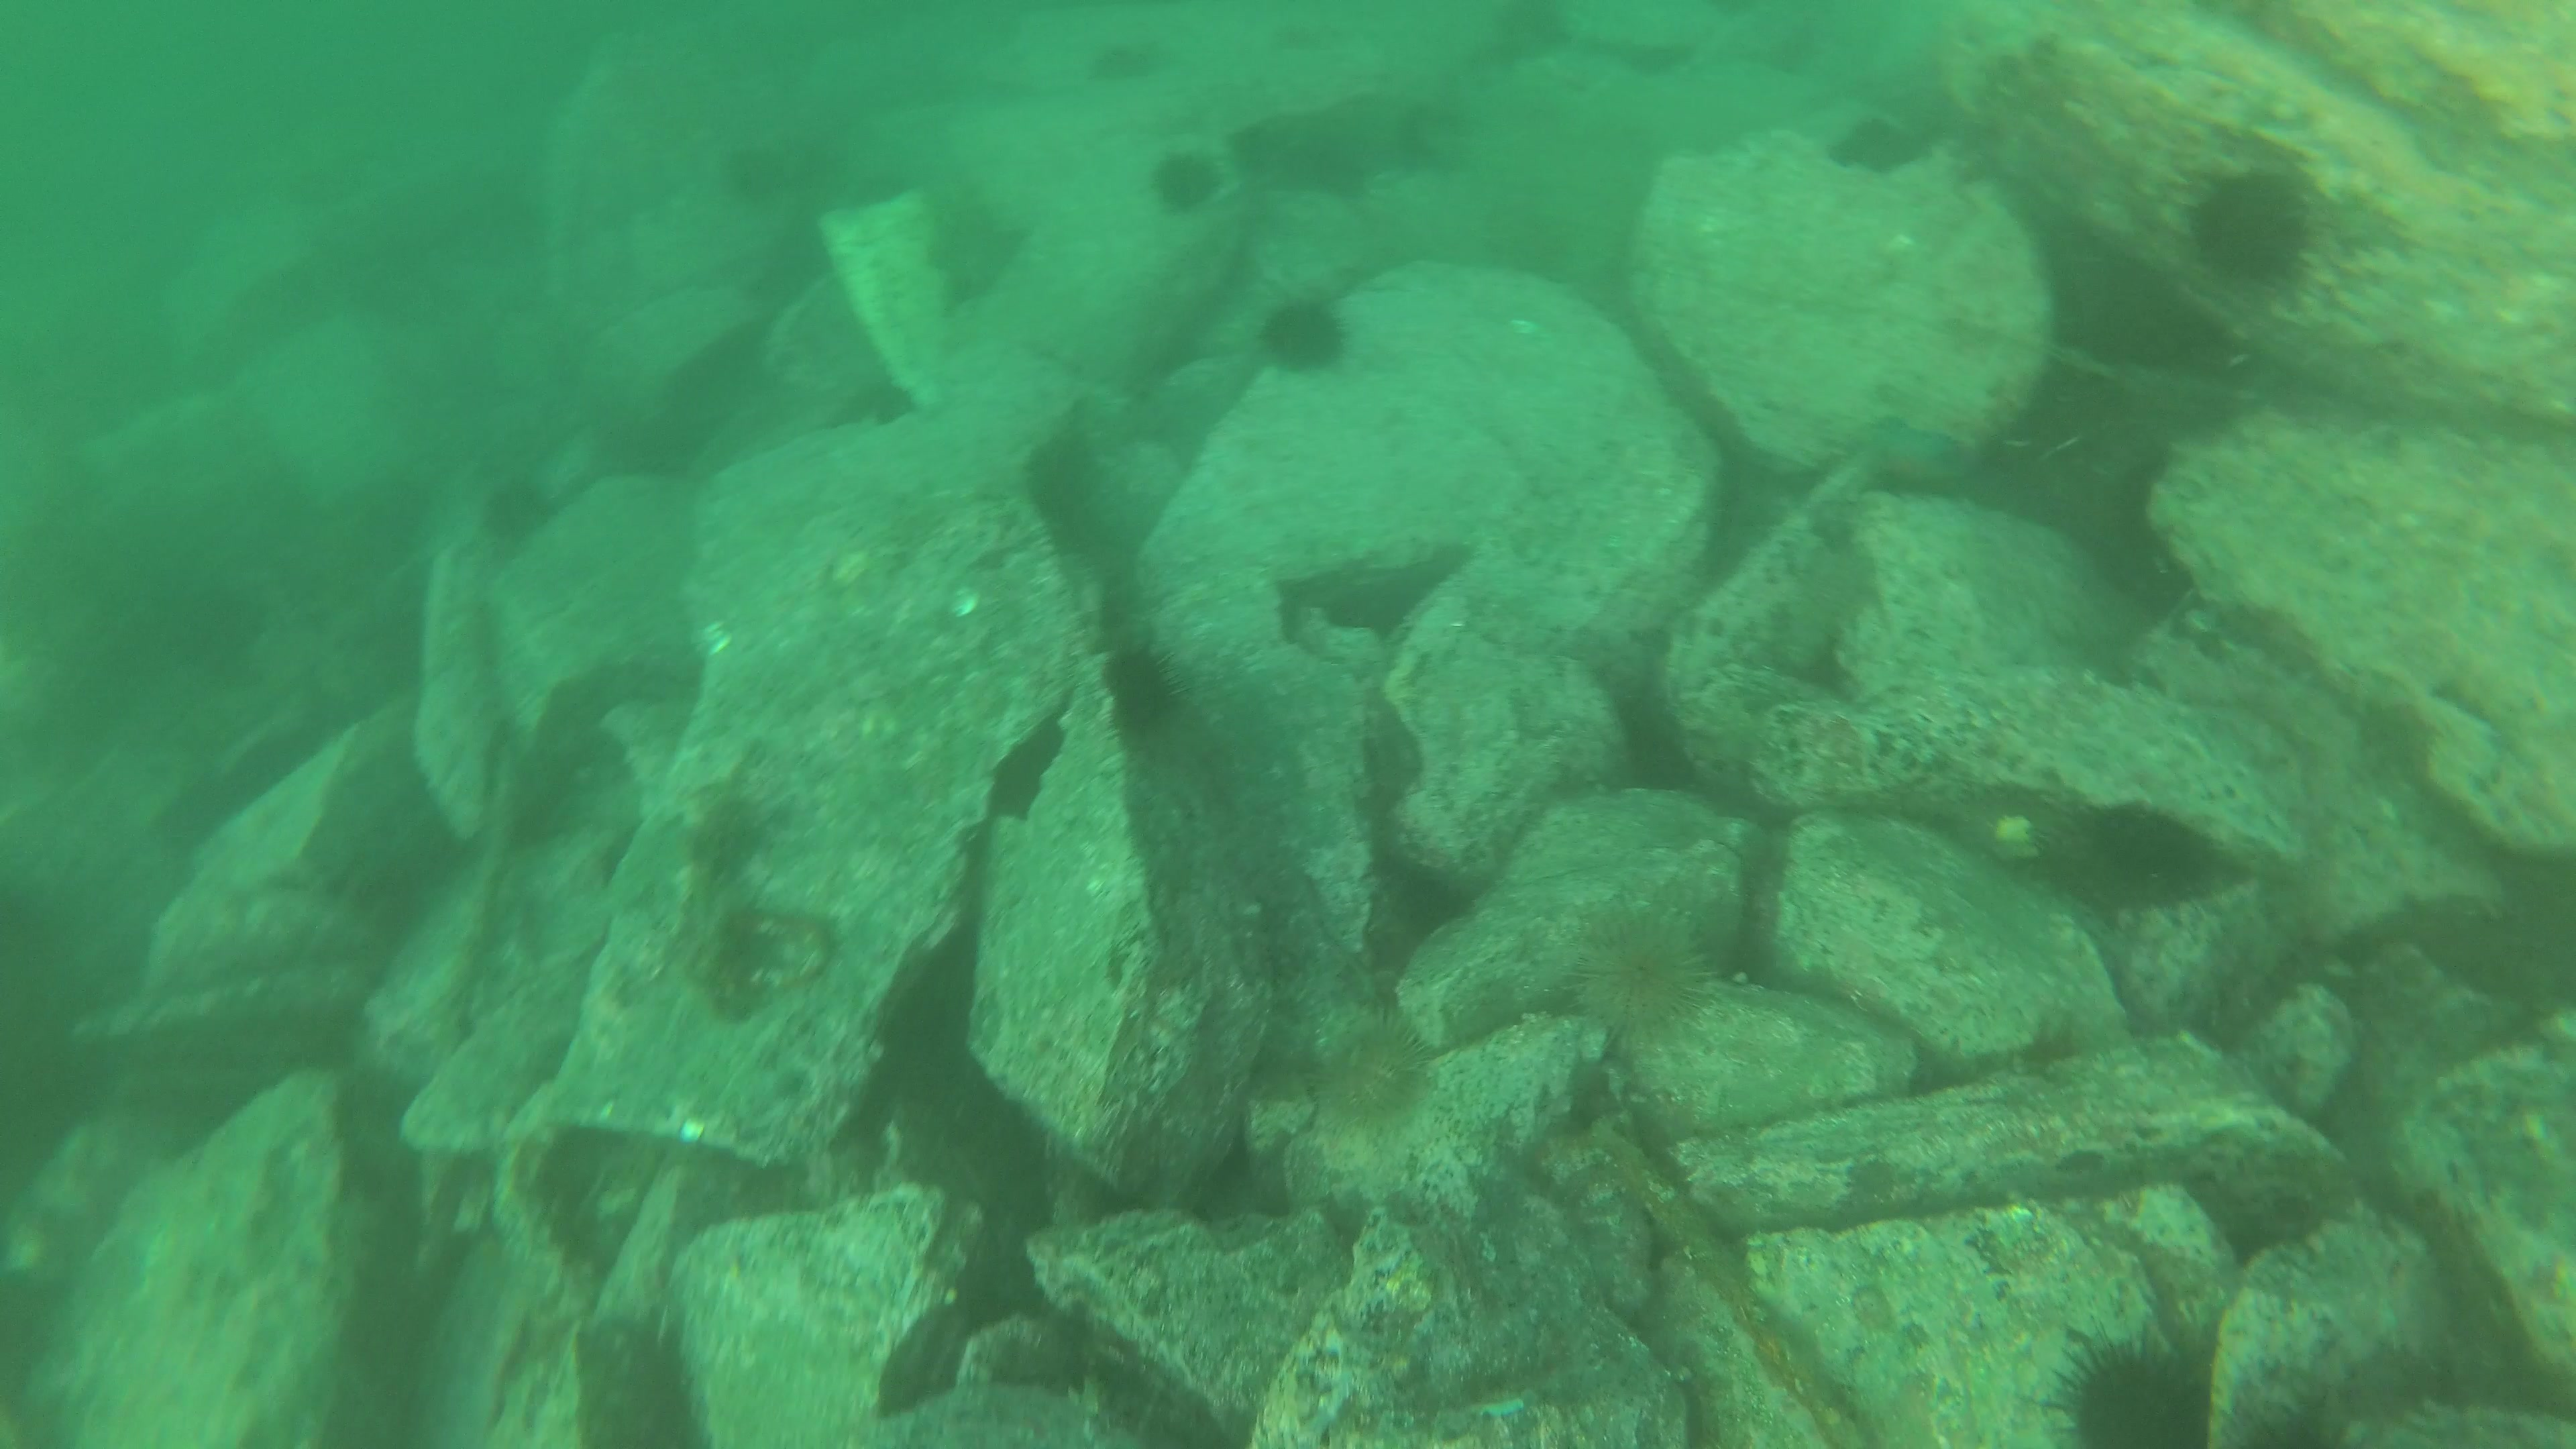echinus: (2035, 1316, 2215, 1449), (1557, 901, 1721, 1033), (2171, 156, 2319, 290), (1295, 1000, 1435, 1125), (1104, 644, 1196, 741), (1260, 292, 1355, 372), (1139, 142, 1230, 216)
